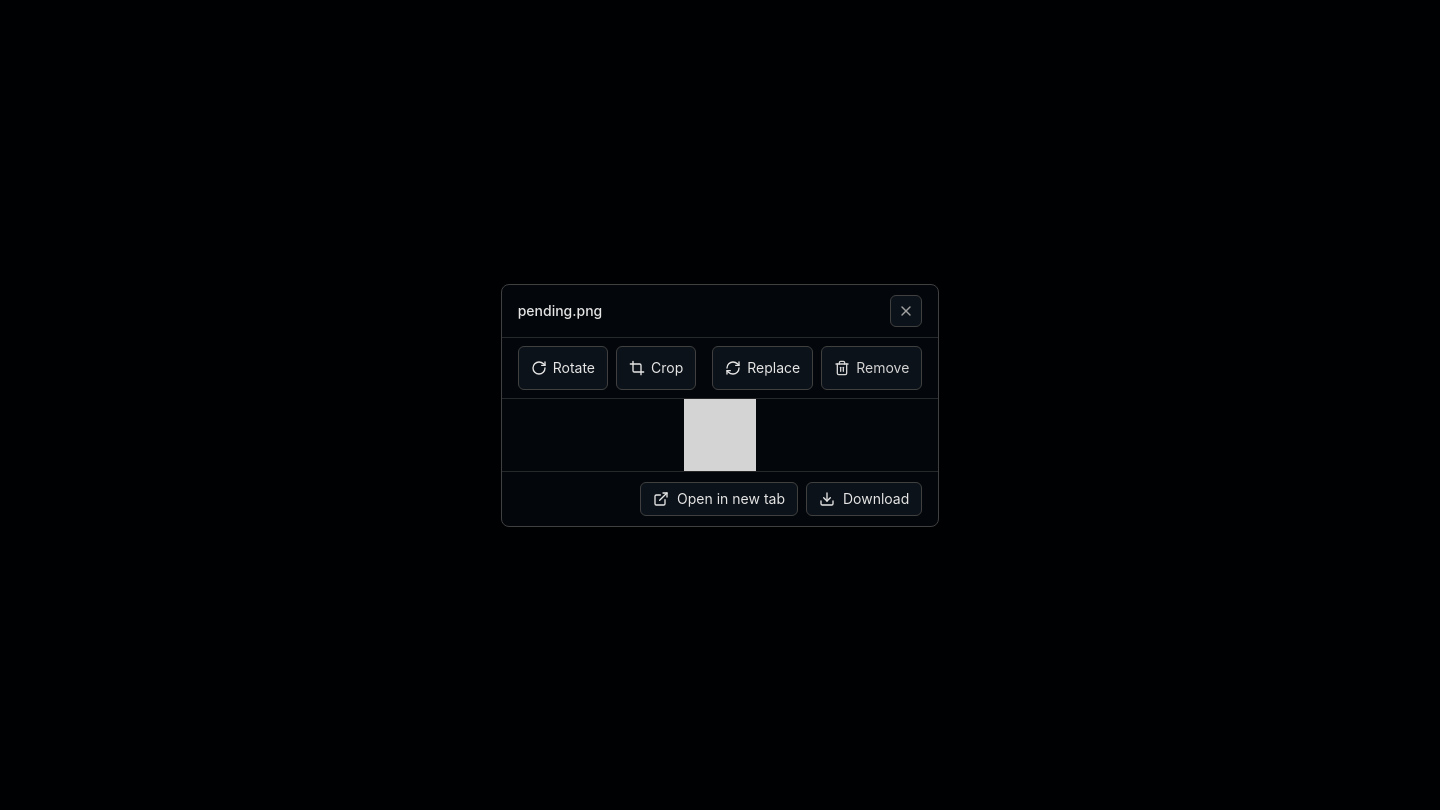
Test: AttachmentPreviewModal type branching › entering crop mode swaps Crop for Apply/Cancel and shows guidance
Click the button with aria-label "Crop image" at (656, 368), box left=616, top=346, right=696, bottom=390
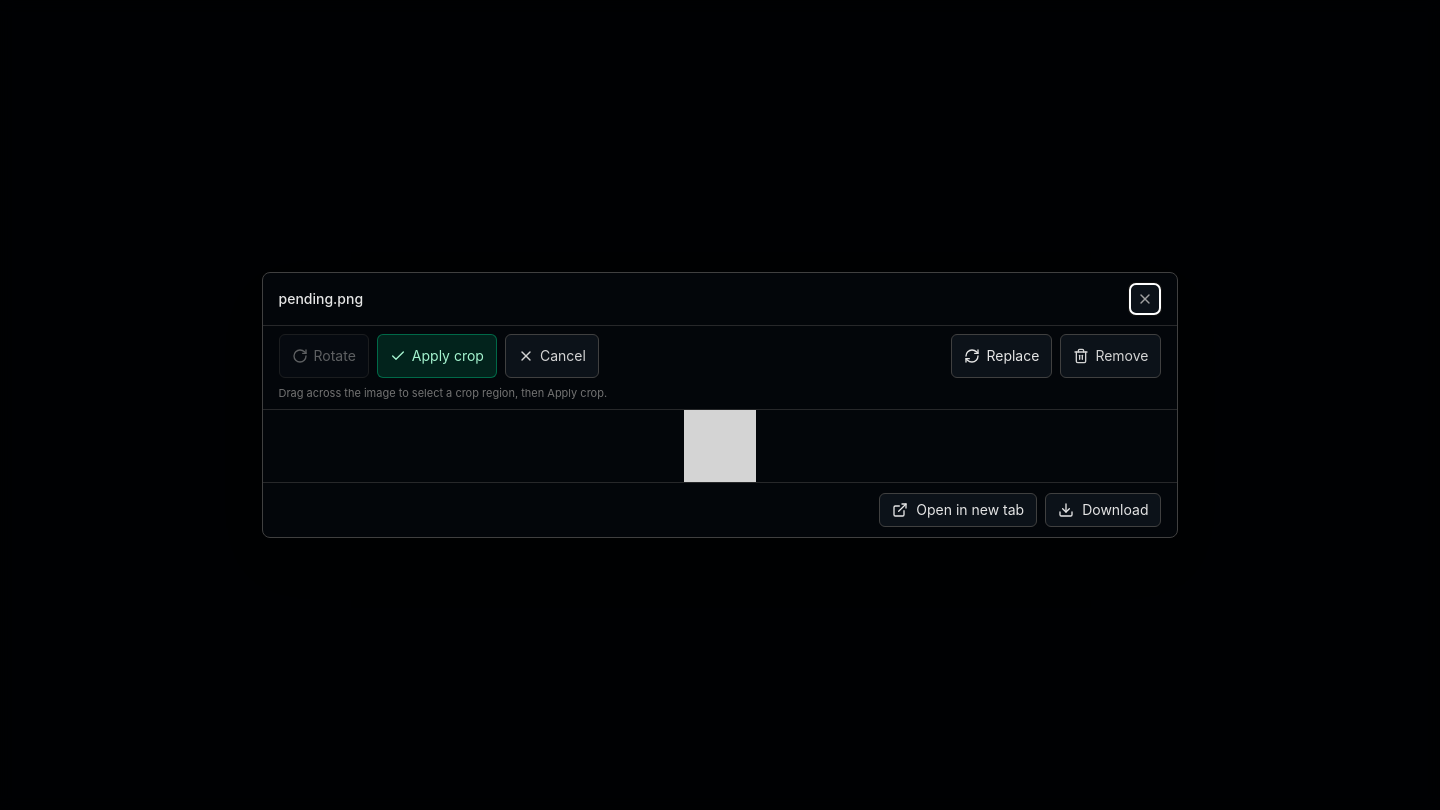
Expected: the button labelled "Apply crop" is shown, left=377, top=334, right=497, bottom=378
Expected: the button with aria-label "Cancel crop" is shown, left=505, top=334, right=599, bottom=378
Expected: the text "Drag across the image" is shown, left=278, top=386, right=607, bottom=400
